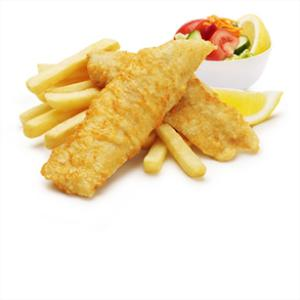fries: (23, 39, 287, 204)
